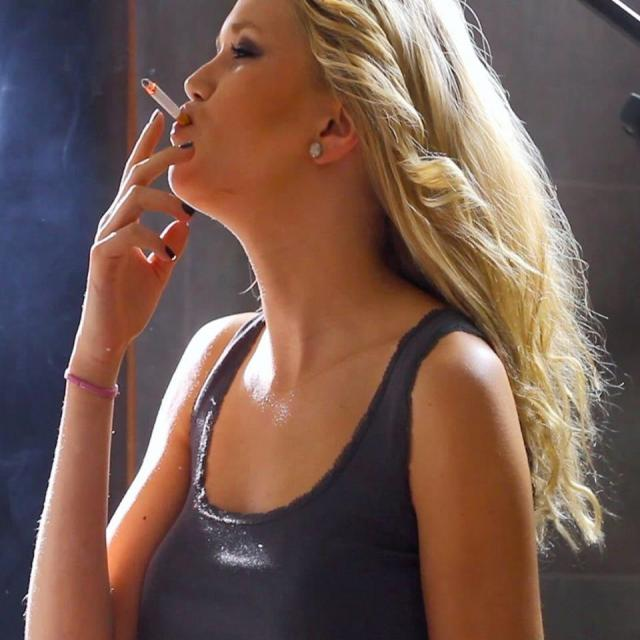smoke: (138, 72, 195, 137)
